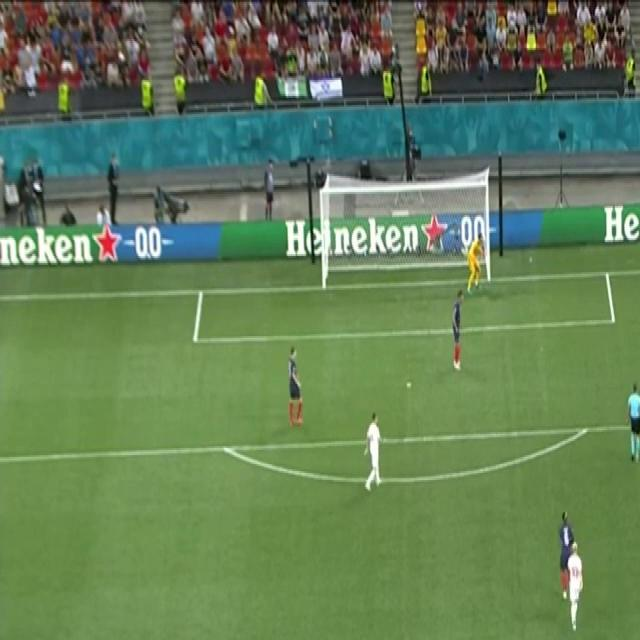player-white: (554, 508, 578, 604), (363, 404, 386, 500), (284, 341, 306, 433), (622, 375, 640, 469), (449, 284, 467, 376), (568, 535, 584, 636), (466, 230, 486, 299)
